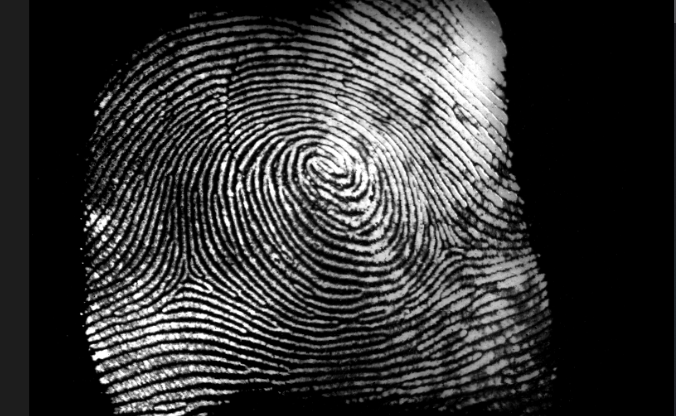deltas: (420, 219, 475, 270), (160, 251, 208, 299)
nucleo: (296, 142, 358, 194)
